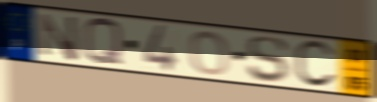4: (142, 23, 180, 73)
C: (293, 39, 339, 90)
N: (37, 12, 80, 64)
O: (188, 29, 231, 77)
Q: (81, 16, 126, 68)
S: (245, 36, 291, 84)
